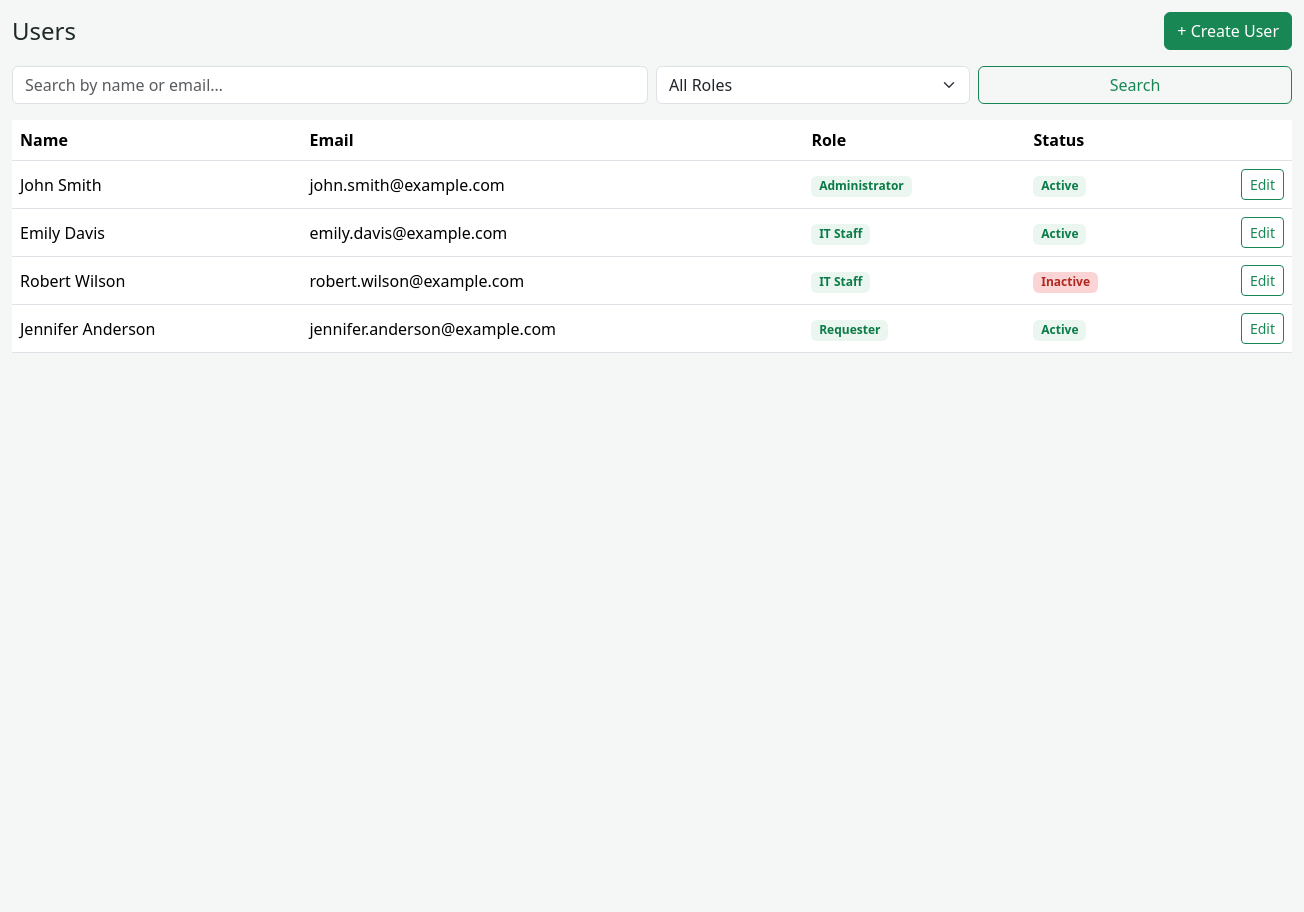
UserManagement edit mode (UI-06, AC-11, BR-16) › sets a new initial password after validating it
Click the button with aria-label "Edit Emily Davis": (1262, 232) [1241, 217, 1284, 248]
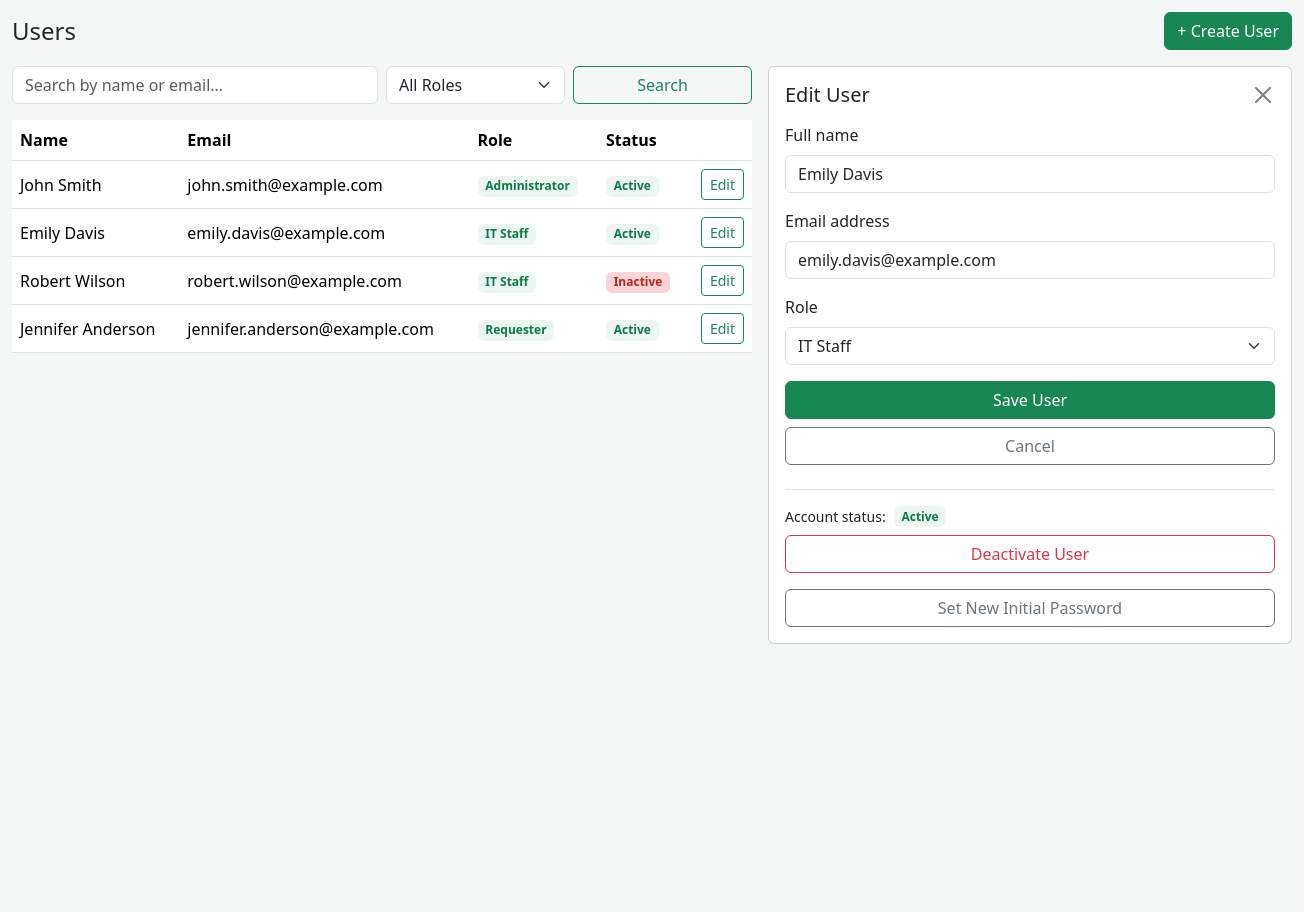
Click the button "Set New Initial Password": (1030, 608) [785, 589, 1275, 627]
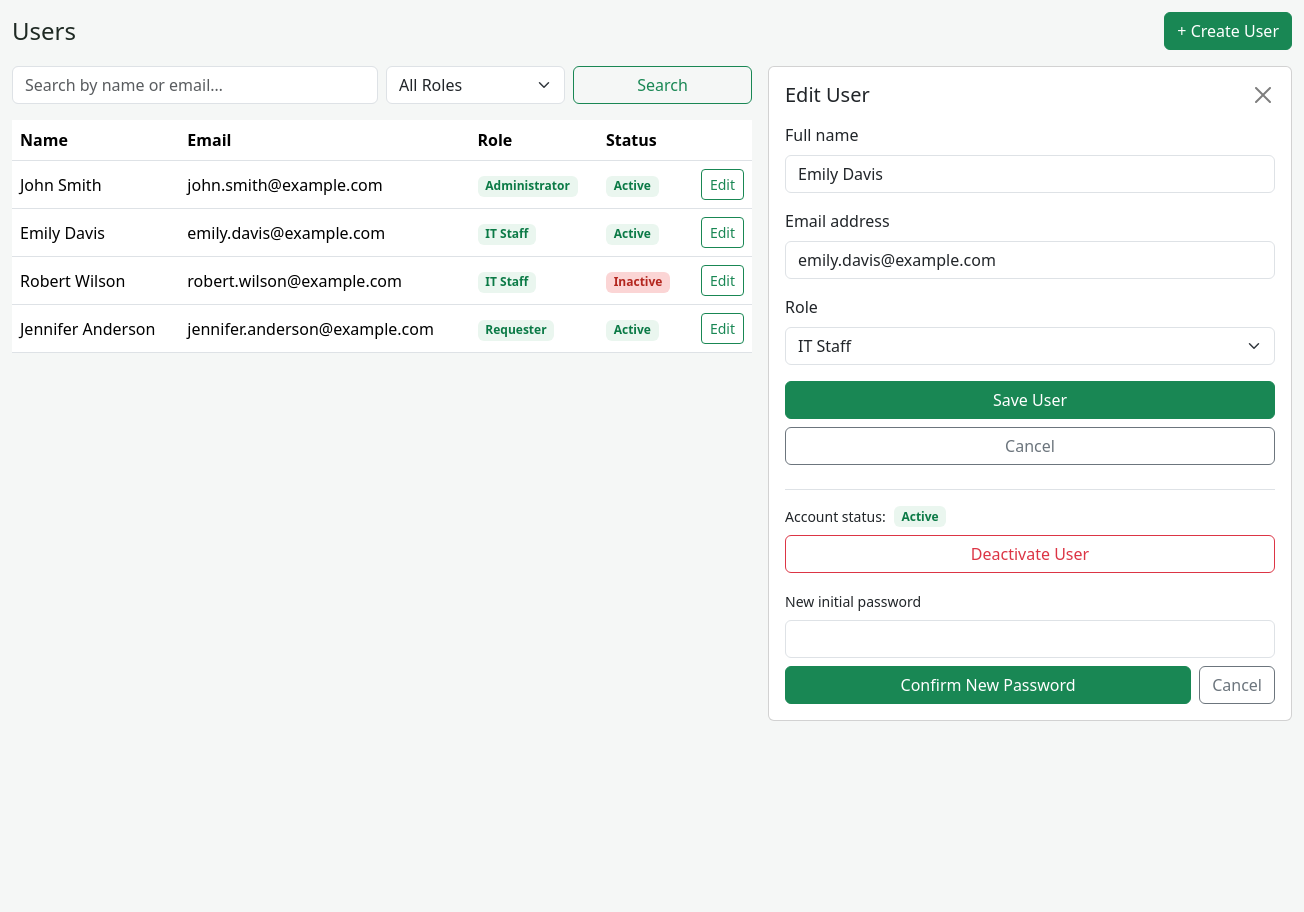
In the password field labelled "New initial password": (1030, 639) [785, 620, 1275, 658], type "weak"
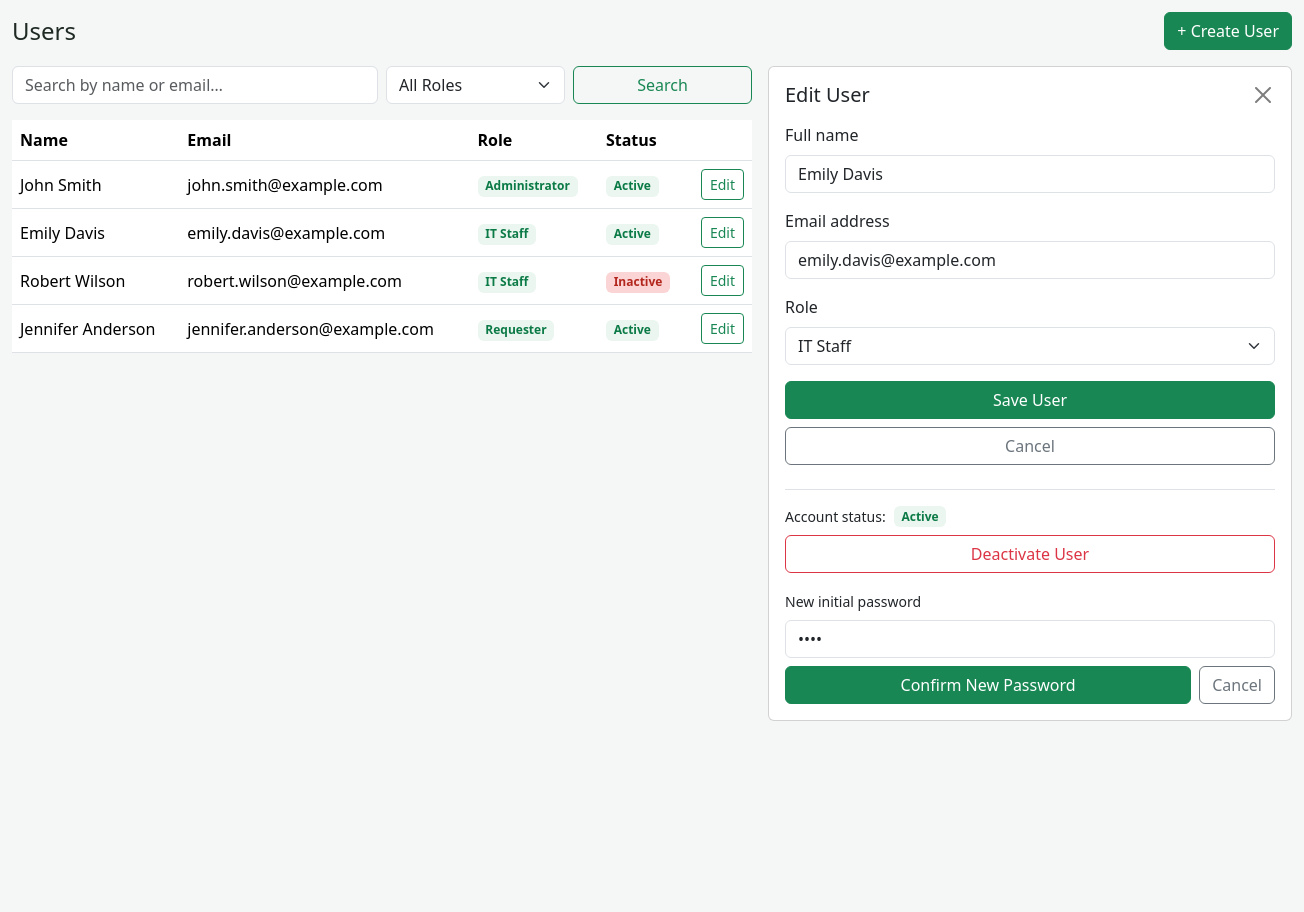
Click the button "Confirm New Password": (988, 685) [785, 666, 1191, 704]
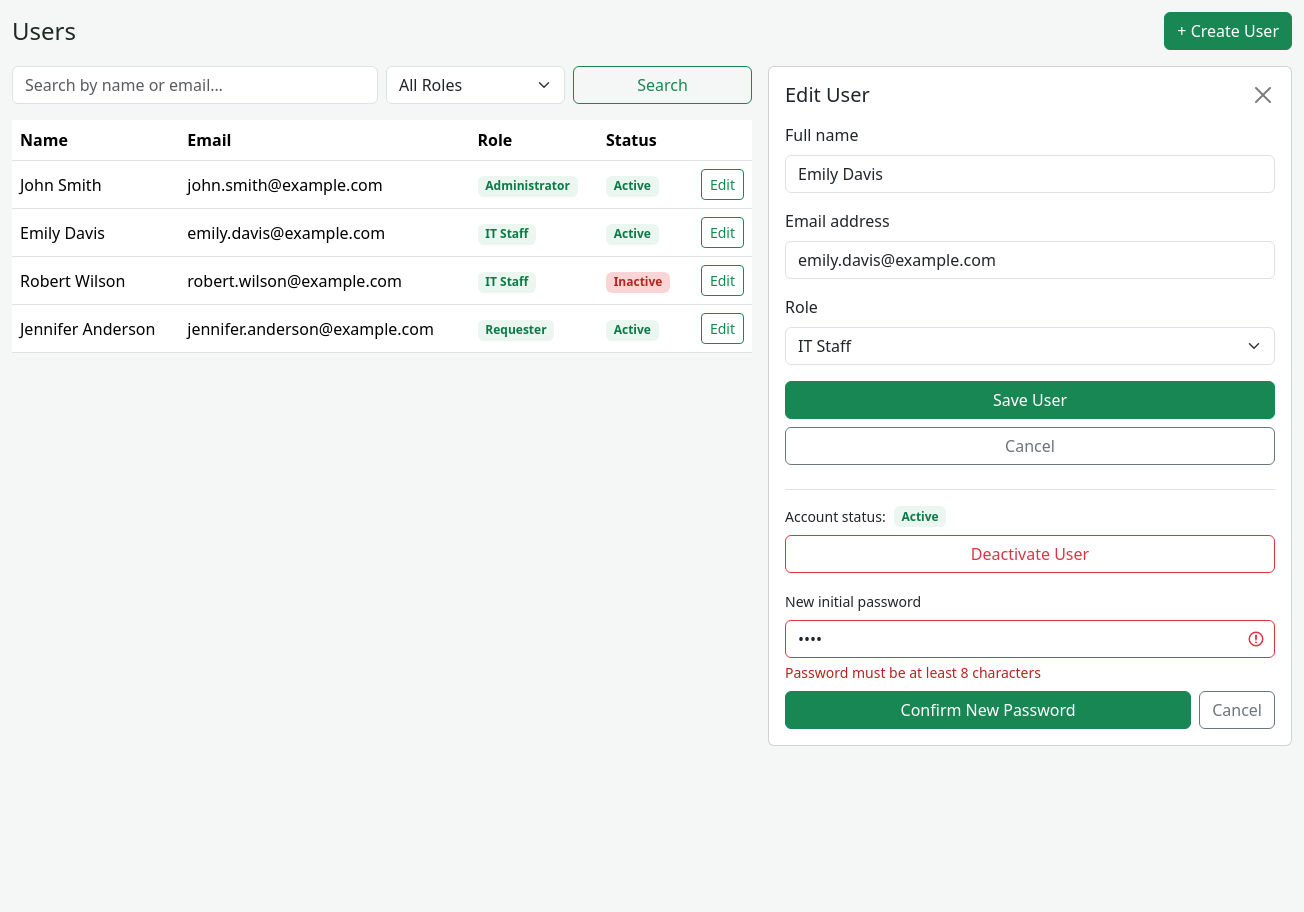
Expected: the text "Password must be at least 8 characters" is shown, [785, 663, 1041, 682]
In the password field labelled "New initial password": (1030, 639) [785, 620, 1275, 658], type "Another#Pass2"
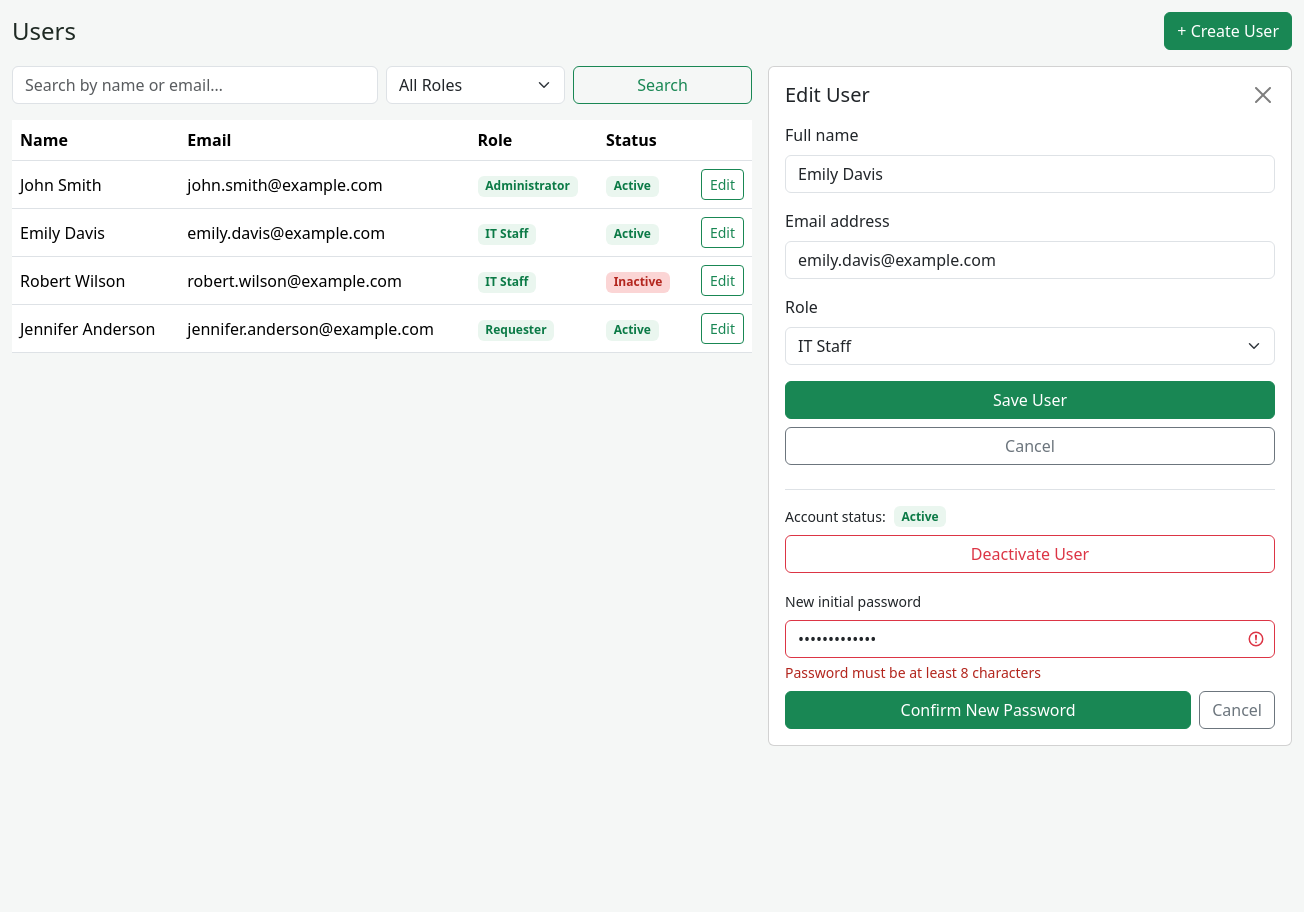
Click the button "Confirm New Password": (988, 710) [785, 691, 1191, 729]
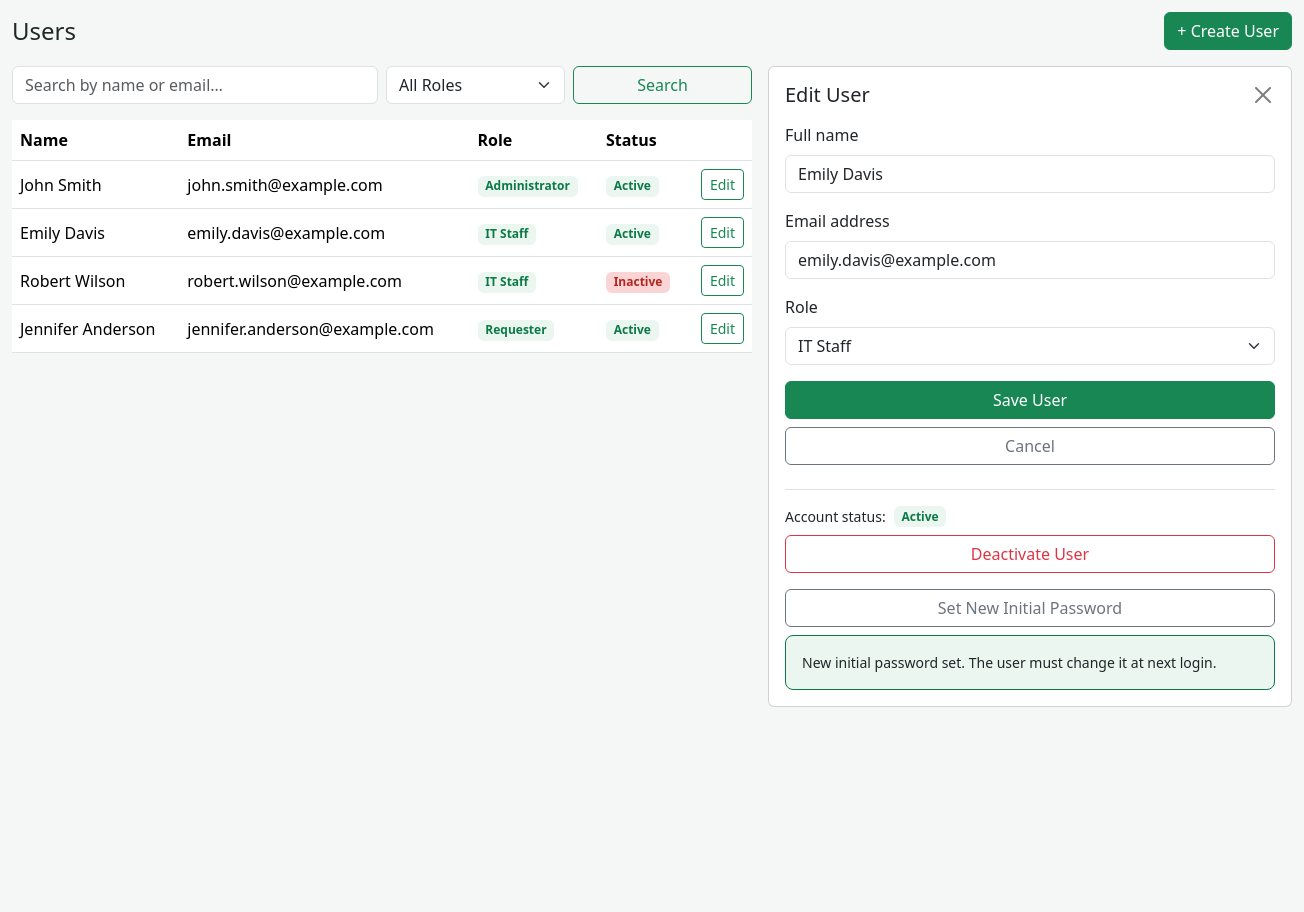
Expected: the text "New initial password set. The user must change it at next login." is shown, [785, 635, 1275, 690]
